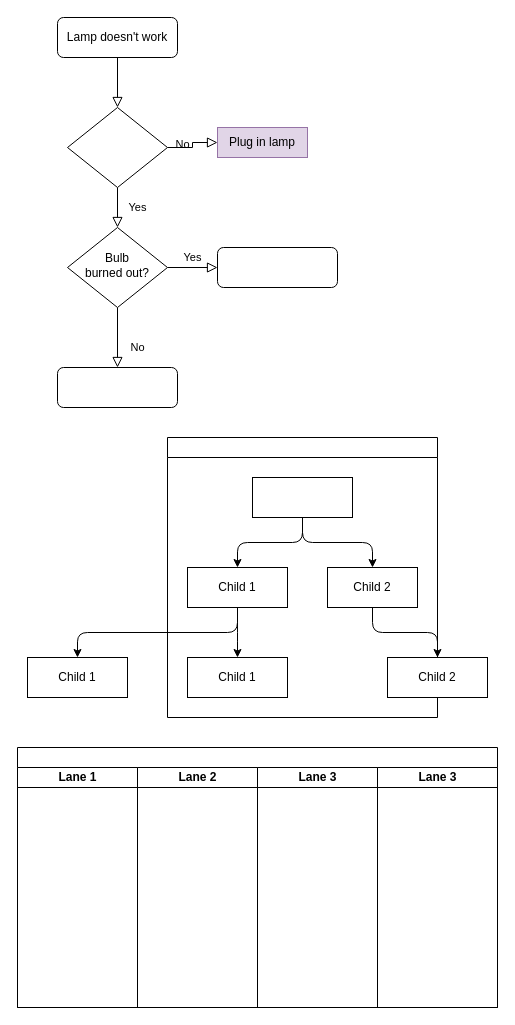
Some shapes in this 515 by 1025 pixel diagram are drawn without their labels. The shapes that lost their labels are listed below. From the top down, each one's box as (x1, y1, x2, y2) in pixels, then its label:
(66, 106, 168, 188): Lamp plugged in?
(216, 246, 338, 288): Replace Bulb
(56, 366, 178, 408): Repair Lamp
(252, 476, 352, 518): Root
(166, 436, 438, 718): Vertical Tree Layout
(16, 746, 498, 1008): Pool
